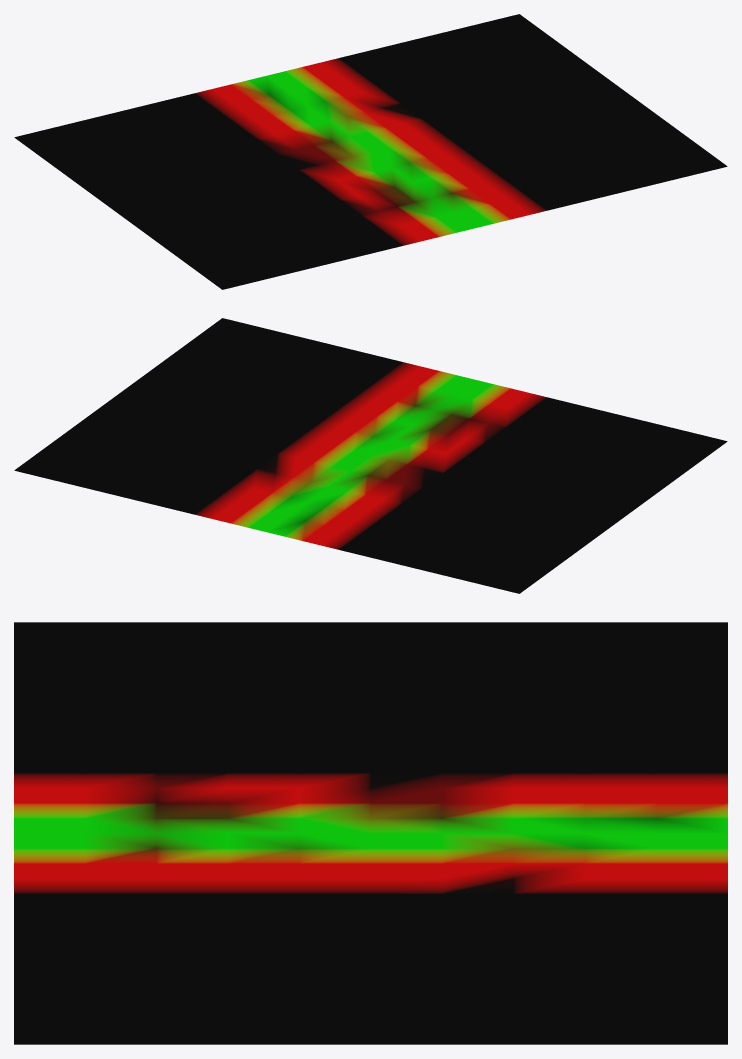
The model's file is Section_WayLine01_Forest_Terrain.fbx.
3 views of the same model, one above another, from view 1: azimuth 30°, elevation 25°; view 2: azimuth 150°, elevation 25°; view 3: azimuth 270°, elevation 25° (orthographic). The views are drawn at different scales.
Parts seen in each view (by area): view 1: Section_WayLine01_Forest_Terrain; view 2: Section_WayLine01_Forest_Terrain; view 3: Section_WayLine01_Forest_Terrain.
Boxes of the visible parts, x1,y1,x2,y2 form: Section_WayLine01_Forest_Terrain: [14, 14, 727, 289]; Section_WayLine01_Forest_Terrain: [14, 318, 727, 593]; Section_WayLine01_Forest_Terrain: [14, 622, 727, 1044].
Bounding box in the file's own units: 7000 × 0 × 5000.
